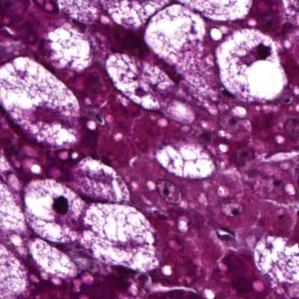ballooning: (0, 53, 82, 154), (81, 203, 159, 276), (216, 27, 288, 104), (21, 177, 85, 244), (103, 52, 175, 111), (153, 138, 219, 184)
